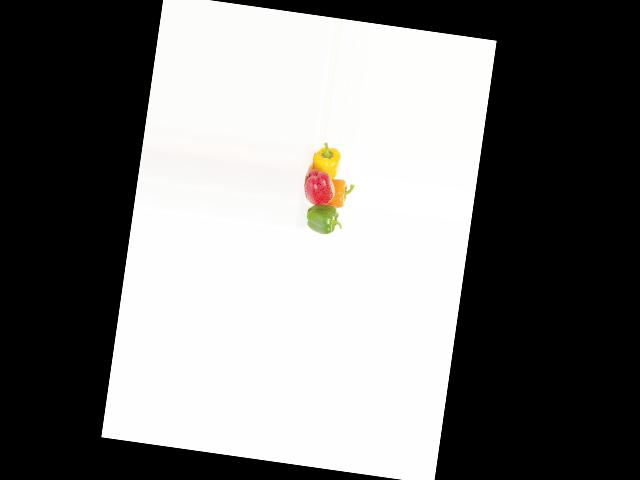bell_pepper: (299, 200, 342, 236)
